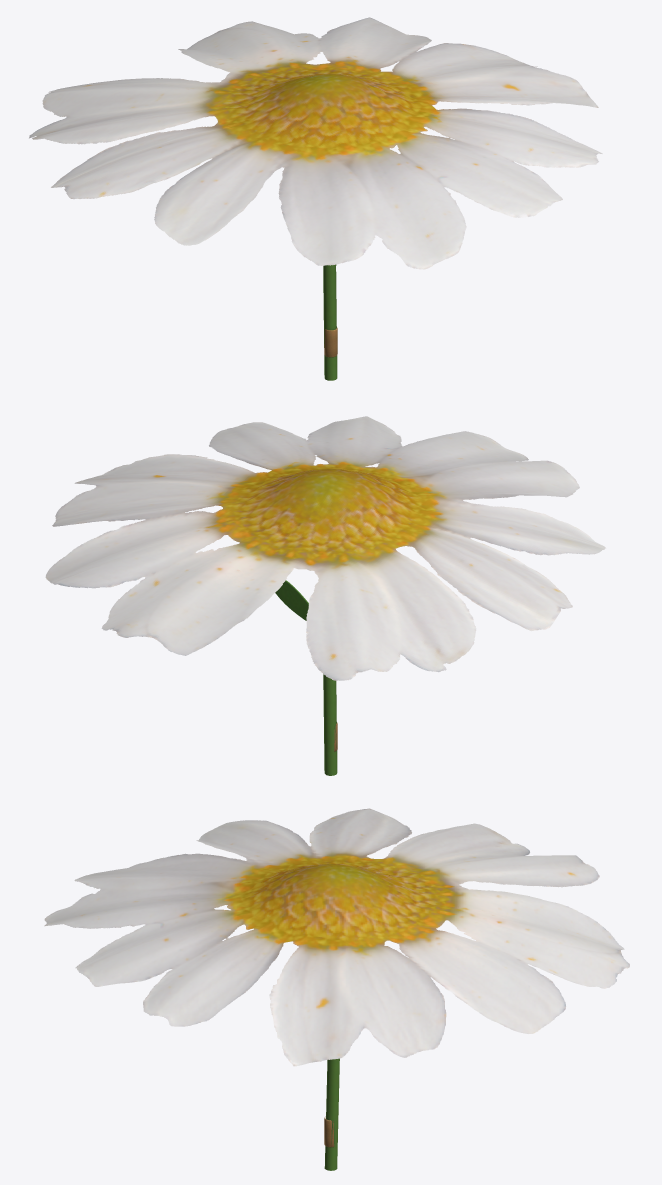
The model's file is glider_daisy.glb.
3 views of the same model, one above another, from view 1: azimuth 30°, elevation 25°; view 2: azimuth 150°, elevation 25°; view 3: azimuth 270°, elevation 25° (orthographic).
Visible parts, largest first — view 1: glider_daisy; view 2: glider_daisy; view 3: glider_daisy.
Part boxes in pixels (<box>): glider_daisy: <box>29,17,602,380</box>; glider_daisy: <box>45,416,605,775</box>; glider_daisy: <box>44,808,629,1170</box>.
Size of the model in its own units: 2.34 by 1.21 by 2.34.
Materials: 2 (2 with a texture image).
